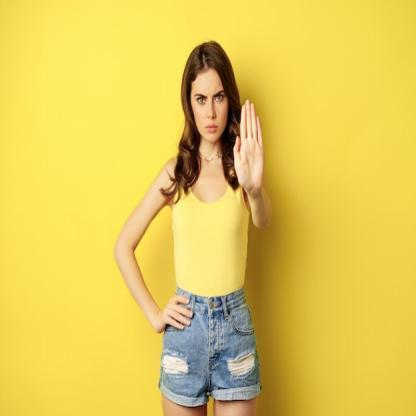stop: (230, 94, 272, 194)
